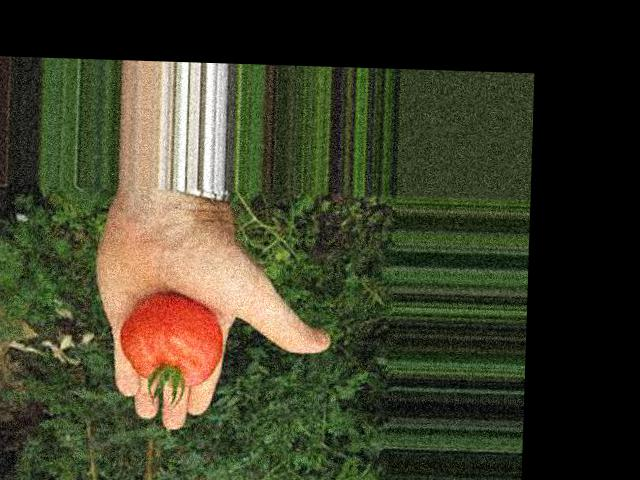tomato: (116, 293, 224, 386)
